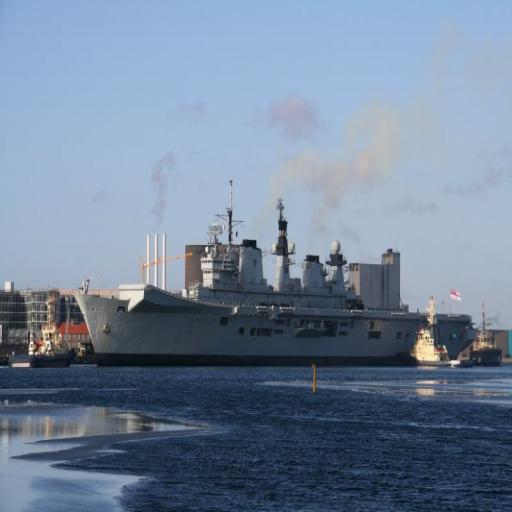Portanaves: (65, 175, 484, 371)
